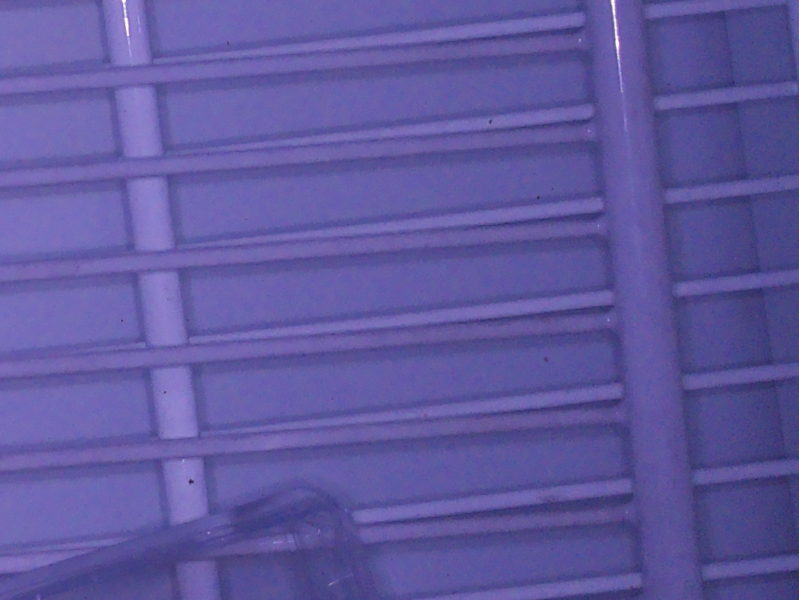plate: (1, 485, 379, 600)
